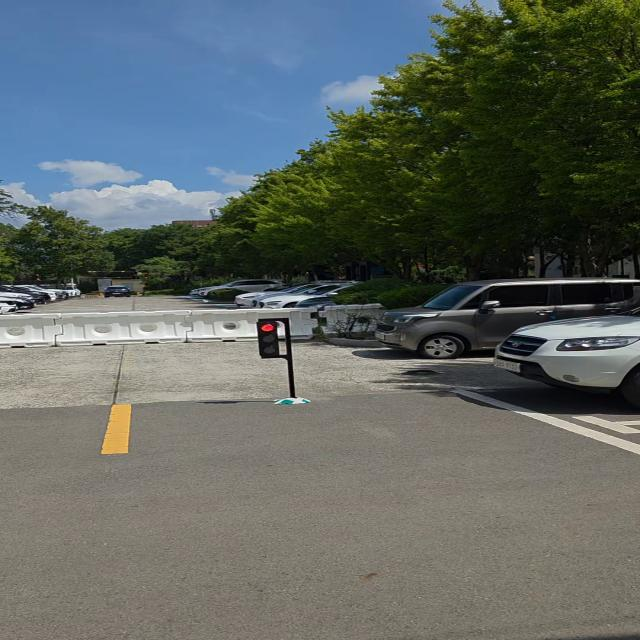red: (251, 321, 286, 358)
